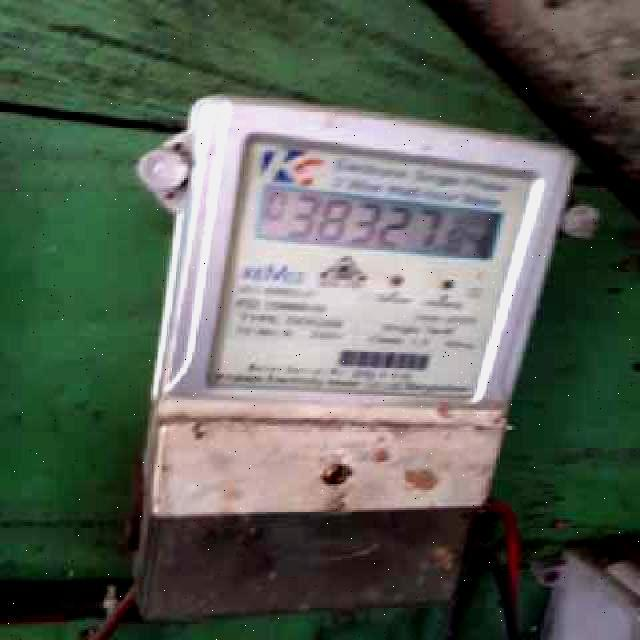LCD: (250, 178, 508, 269)
